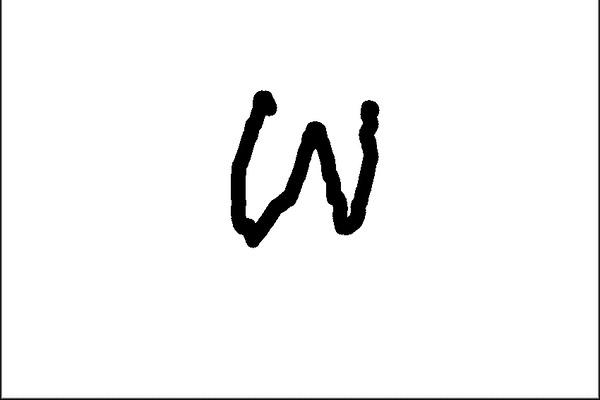w: (218, 74, 387, 257)
